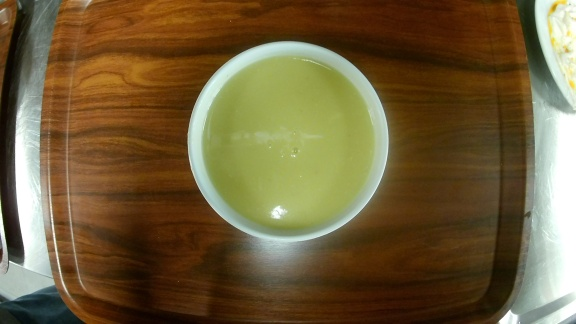mercimek: (187, 39, 391, 241)
